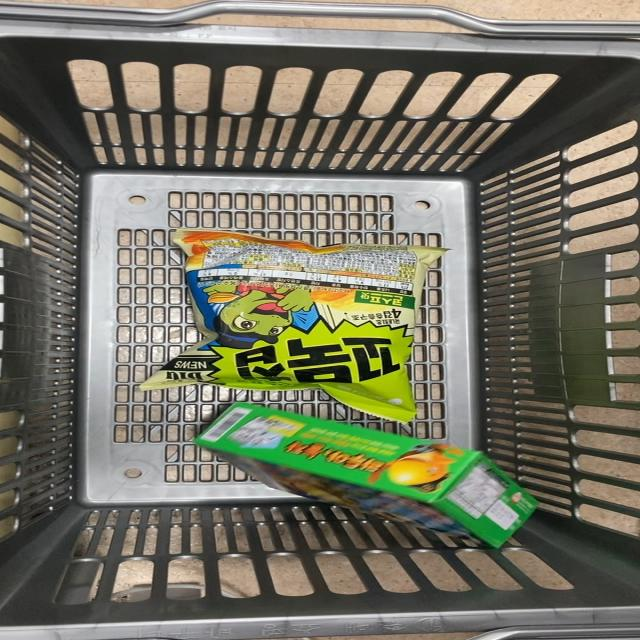ggobukchip: (154, 215, 452, 426)
goraebob: (185, 401, 560, 551)
